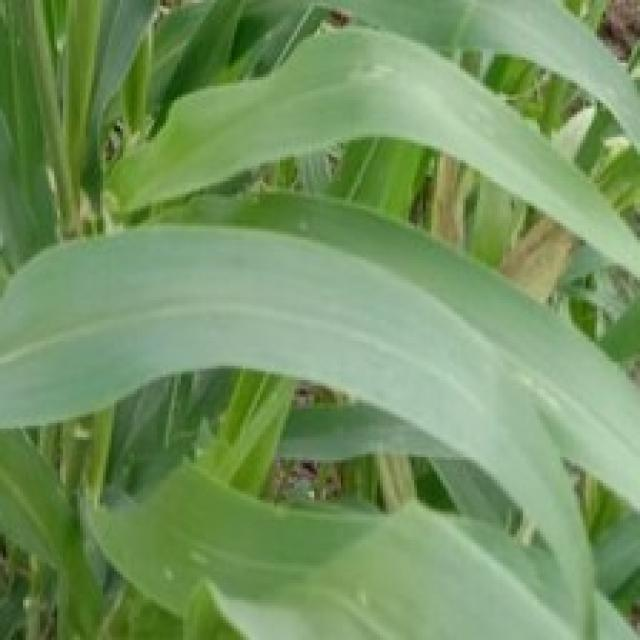Corn: (0, 0, 637, 637), (103, 20, 637, 297), (80, 454, 637, 637)
